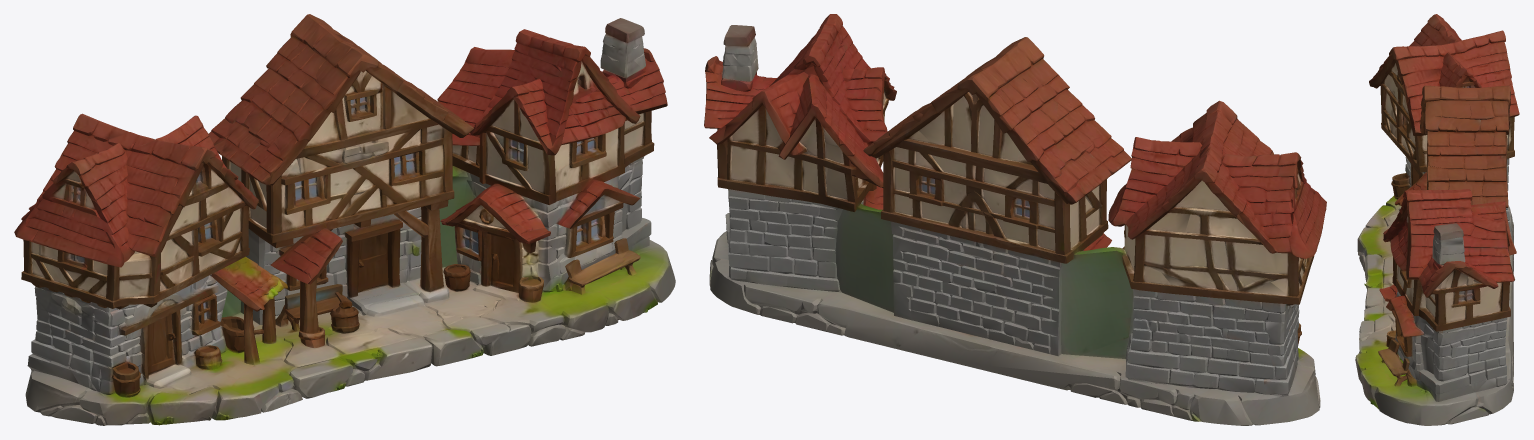
3 renders of one model, left to right at view 1: azimuth 30°, elevation 25°; view 2: azimuth 150°, elevation 25°; view 3: azimuth 270°, elevation 25°, orthographic. The views are drawn at different scales.
Visible parts, largest first — view 1: model; view 2: model; view 3: model.
Part boxes in pixels (x1,y1,x2,y2): model: (14,14,675,425); model: (704,14,1326,425); model: (1355,14,1519,425).
Bounding box in the file's own units: 1.9 × 0.8499 × 0.5618.
Materials: 1 (1 with a texture image).
